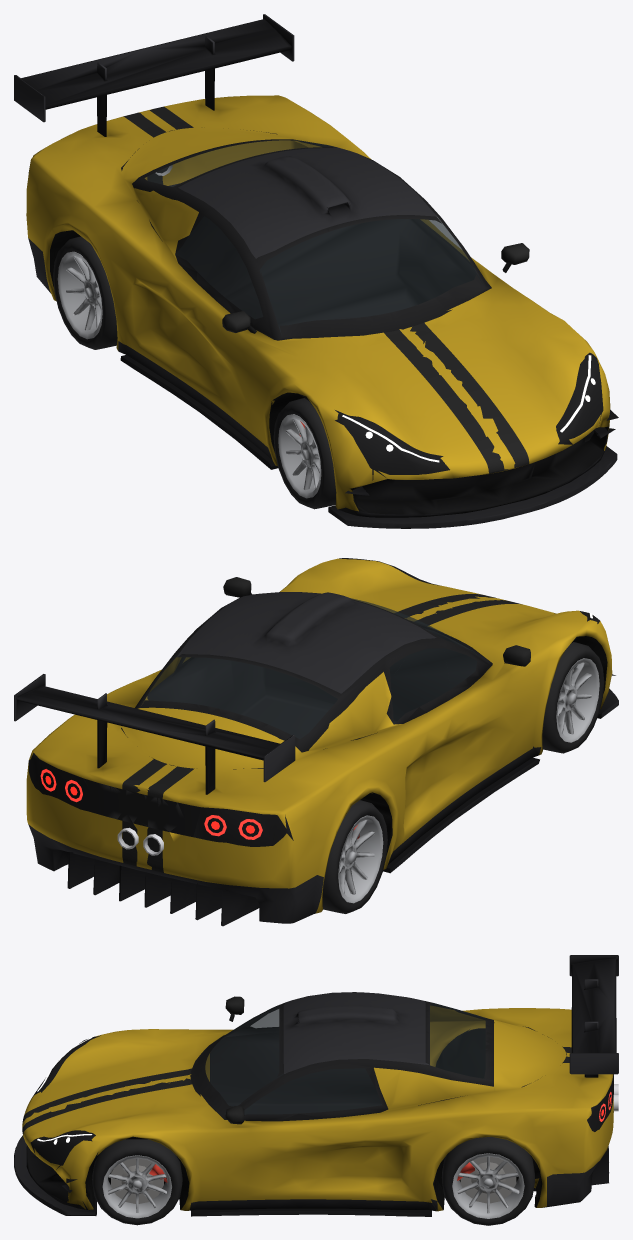
The model's file is zephyr_lod1.glb.
The picture shows the model from 3 angles, top to bottom: view 1: azimuth 30°, elevation 25°; view 2: azimuth 150°, elevation 25°; view 3: azimuth 270°, elevation 25°; orthographic projection. The views are drawn at different scales.
Visible parts, largest first — view 1: body, wheel_rr_mesh, wheel_fr_mesh; view 2: body, wheel_rr_mesh, wheel_fr_mesh; view 3: body, wheel_rl_mesh, wheel_fl_mesh.
Part boxes in pixels (x1,y1,x2,y2): body: [14, 14, 618, 528]; wheel_rr_mesh: [53, 236, 117, 349]; wheel_fr_mesh: [273, 398, 336, 509]; body: [14, 557, 618, 926]; wheel_rr_mesh: [322, 800, 387, 913]; wheel_fr_mesh: [542, 642, 604, 753]; body: [14, 955, 618, 1216]; wheel_rl_mesh: [441, 1137, 534, 1225]; wheel_fl_mesh: [92, 1139, 182, 1225].
Size of the model in its own units: 2.02 by 1.37 by 4.34.
